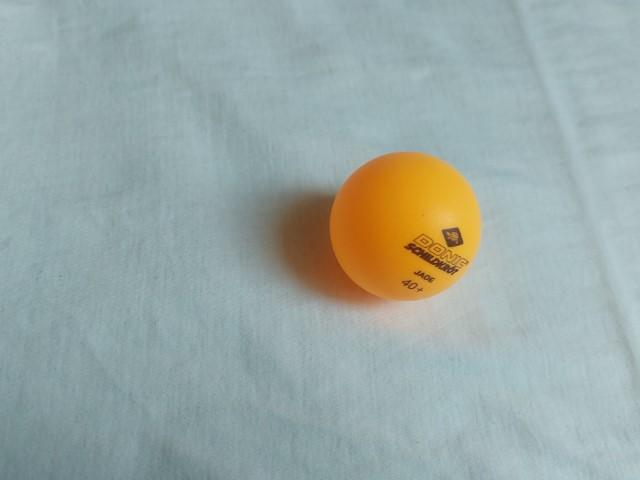oball: (316, 143, 491, 311)
